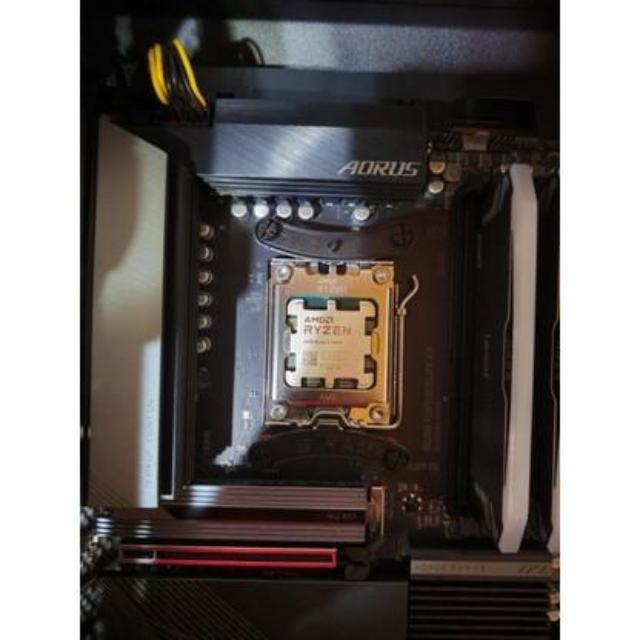CPU: (284, 300, 376, 388)
